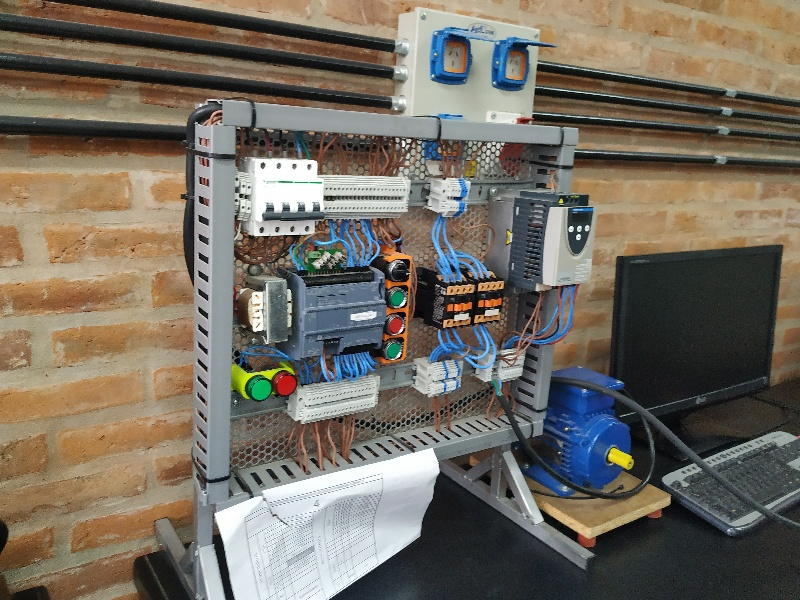Tablero 4: (218, 137, 594, 498)
